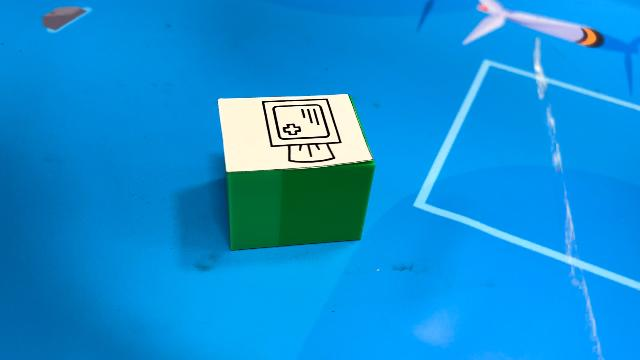napkin: (216, 92, 377, 252)
